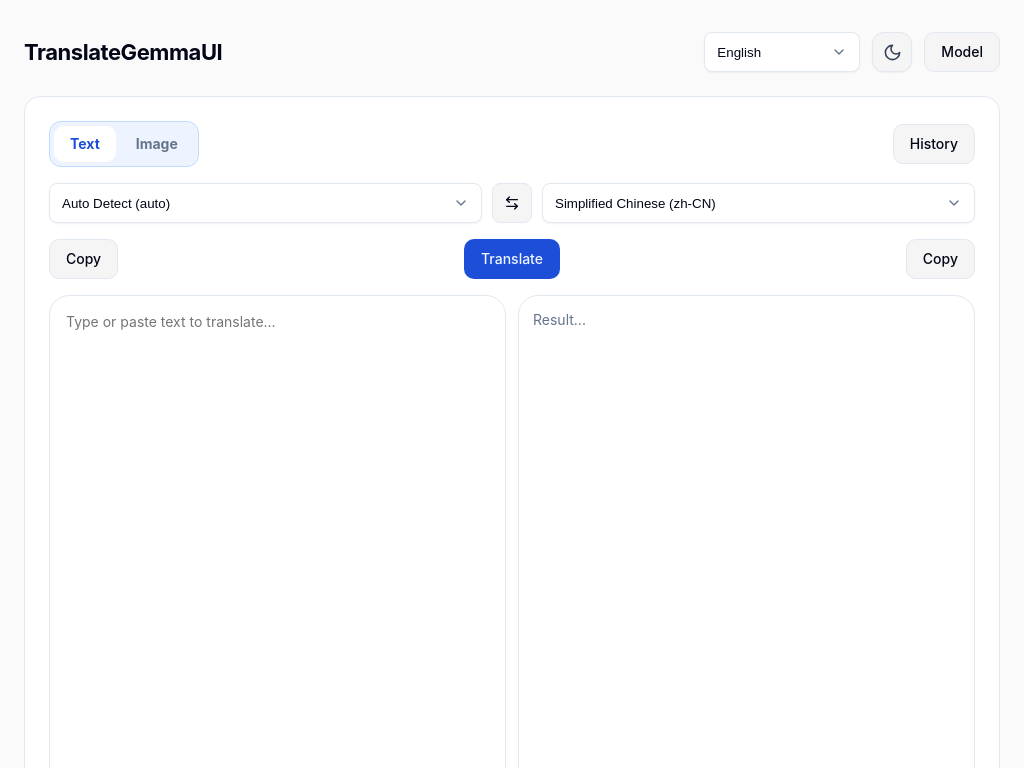
it: TranslateGemmaUI webui › opens history and shows detail
Click the button "History": (934, 144) [893, 124, 975, 164]
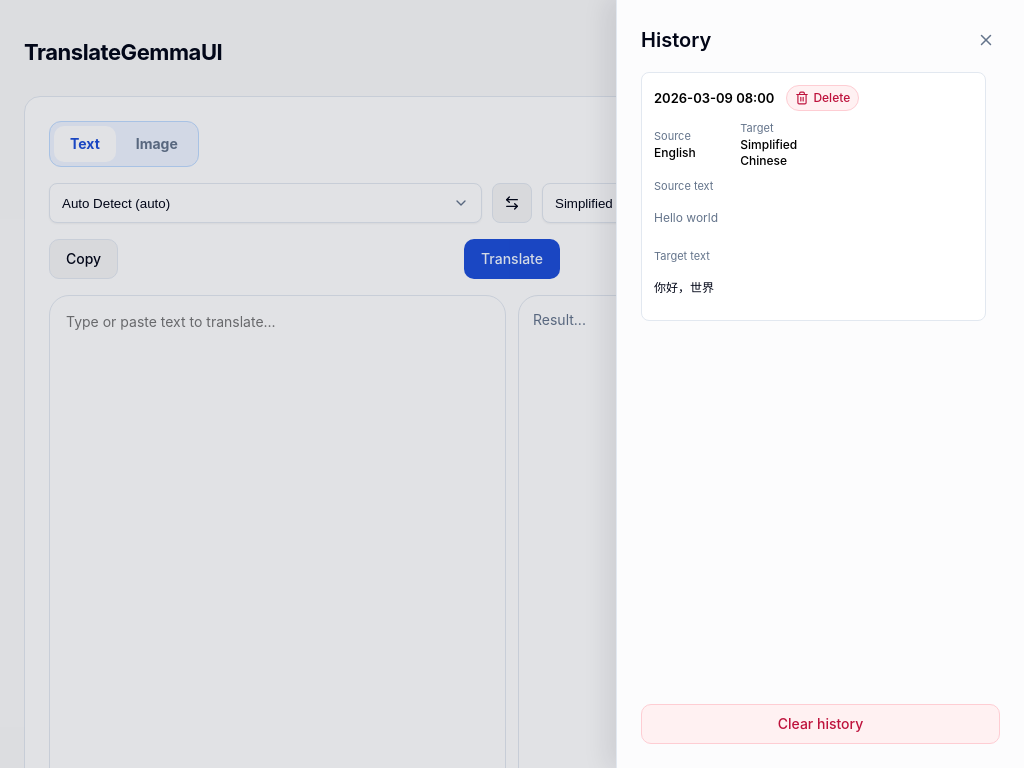
Click the text "Hello world": (686, 218) [654, 209, 718, 227]
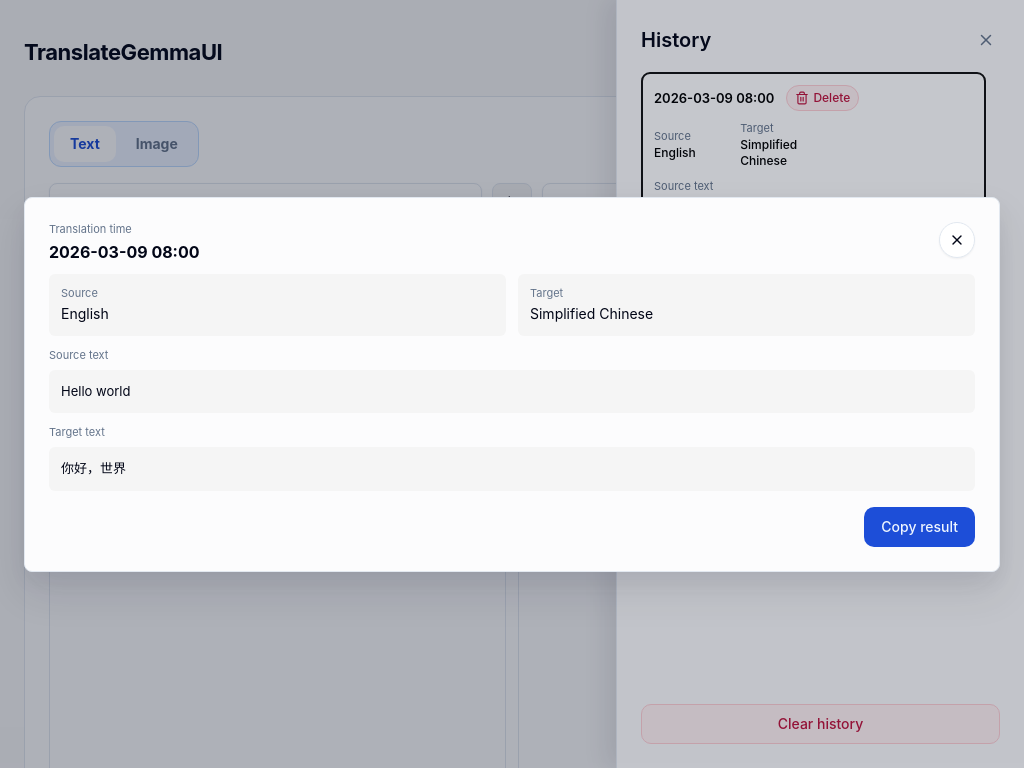
Check: the dialog named "History Detail" is shown, box [24, 196, 1000, 572]
Check: the dialog named "History Detail" shows "你好，世界", box [61, 460, 126, 476]
